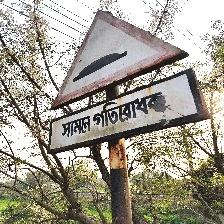Speed-breaker: (48, 10, 210, 154)
